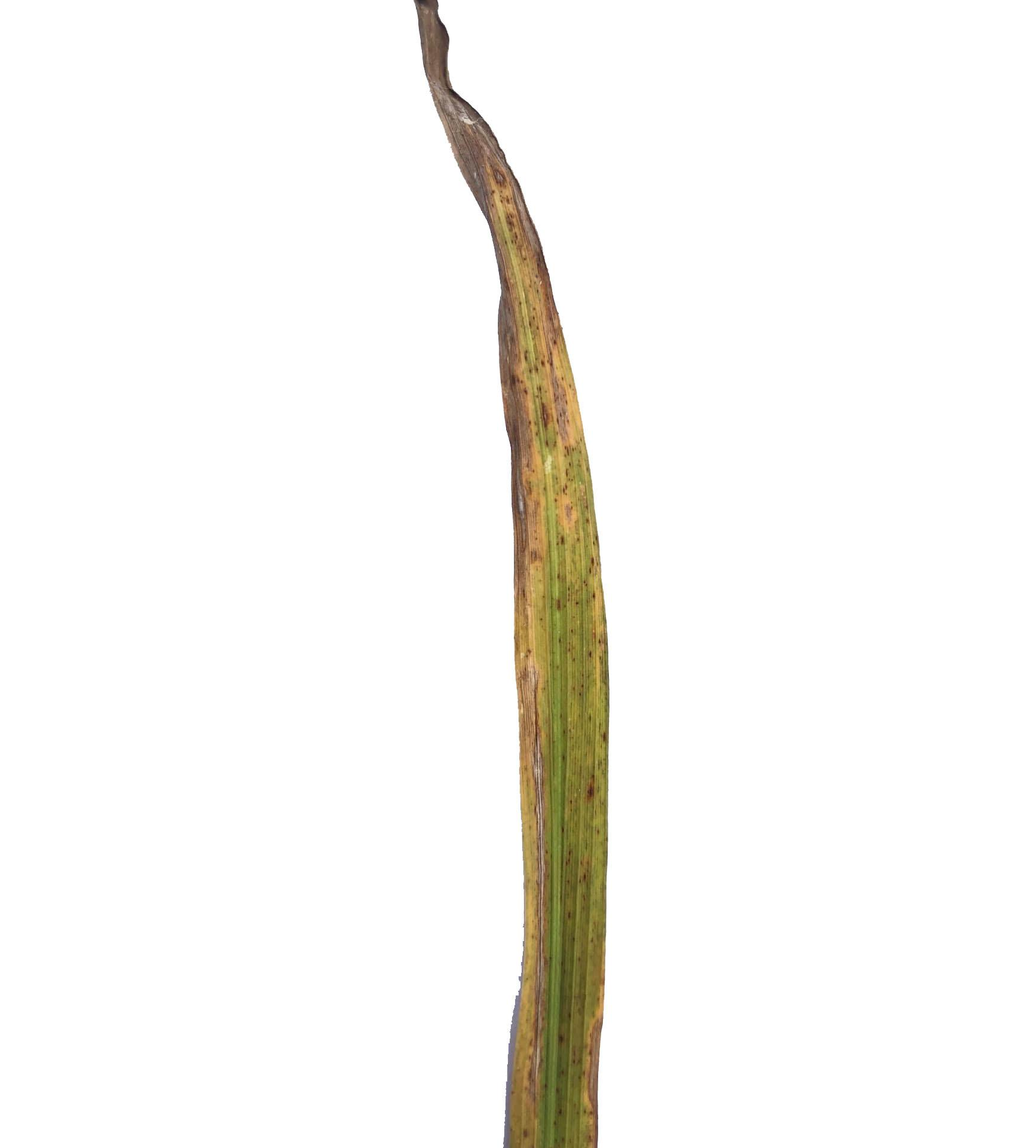Leaf Smut: (559, 568, 603, 939)
Rice blast: (419, 45, 598, 571), (510, 576, 553, 1128), (584, 990, 608, 1148)
